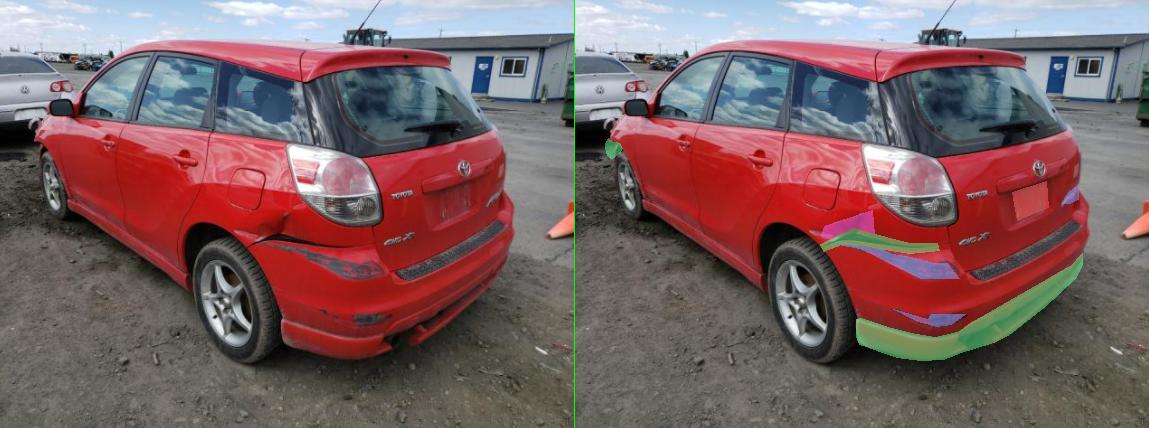Broken part: (562, 253, 1015, 360), (490, 228, 729, 253), (60, 138, 94, 158)
Dent: (492, 210, 599, 243)
Missing part: (875, 181, 947, 220)
Scratch: (526, 244, 769, 278), (637, 309, 781, 326), (973, 184, 1007, 203)
